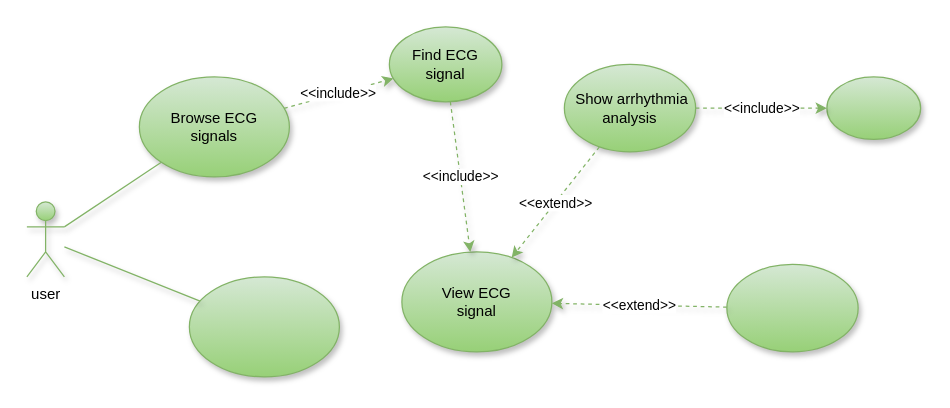
The diagram is 950 pixels wide and 408 high, and some of its shapes have lost their labels. Each missing label, with the centre of its shape:
"Detect arrhythmia" belongs at point (874, 109).
"Show Command List" belongs at point (265, 328).
"Show ECG plot" belongs at point (793, 309).
